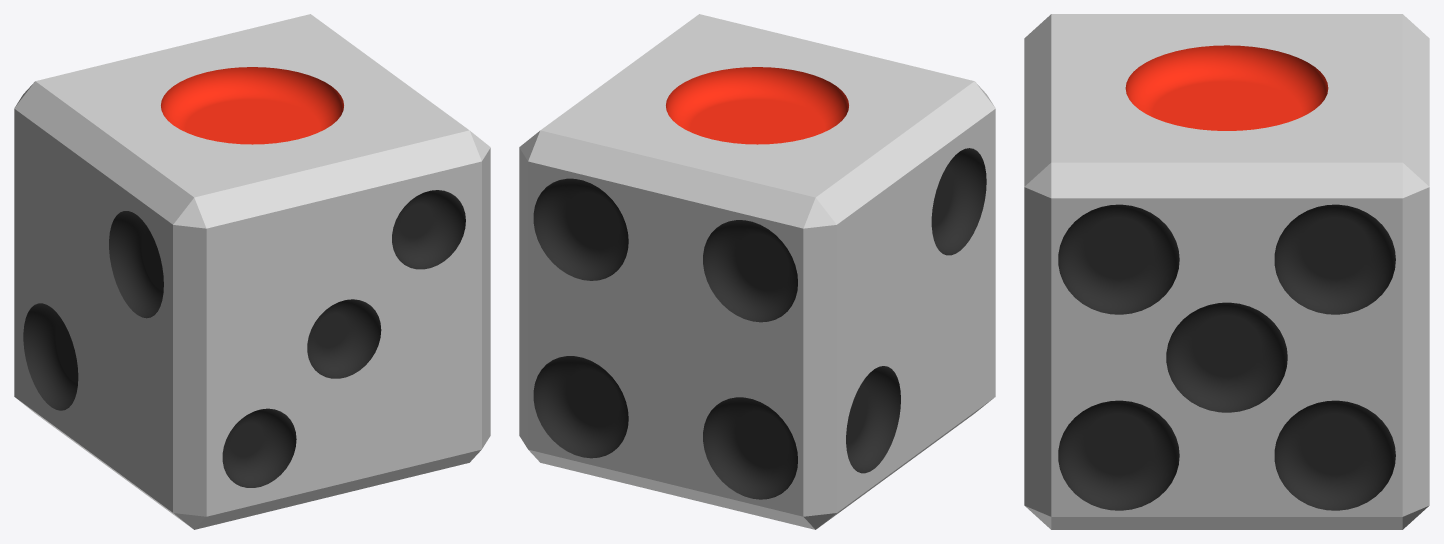
File: Dice.glb
3 views of the same model, side by side, from view 1: azimuth 30°, elevation 25°; view 2: azimuth 150°, elevation 25°; view 3: azimuth 270°, elevation 25° (orthographic). The views are drawn at different scales.
Parts seen in each view (by area): view 1: Part1; view 2: Part1; view 3: Part1.
Part boxes in pixels (box(x1,y1,x2,y2)): Part1: box(14, 14, 490, 529); Part1: box(519, 14, 995, 529); Part1: box(1024, 14, 1429, 529).
Bounding box in the file's own units: 0.03 × 0.03 × 0.03.
